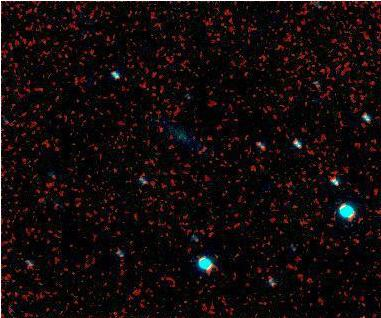star: (145, 114, 175, 144)
